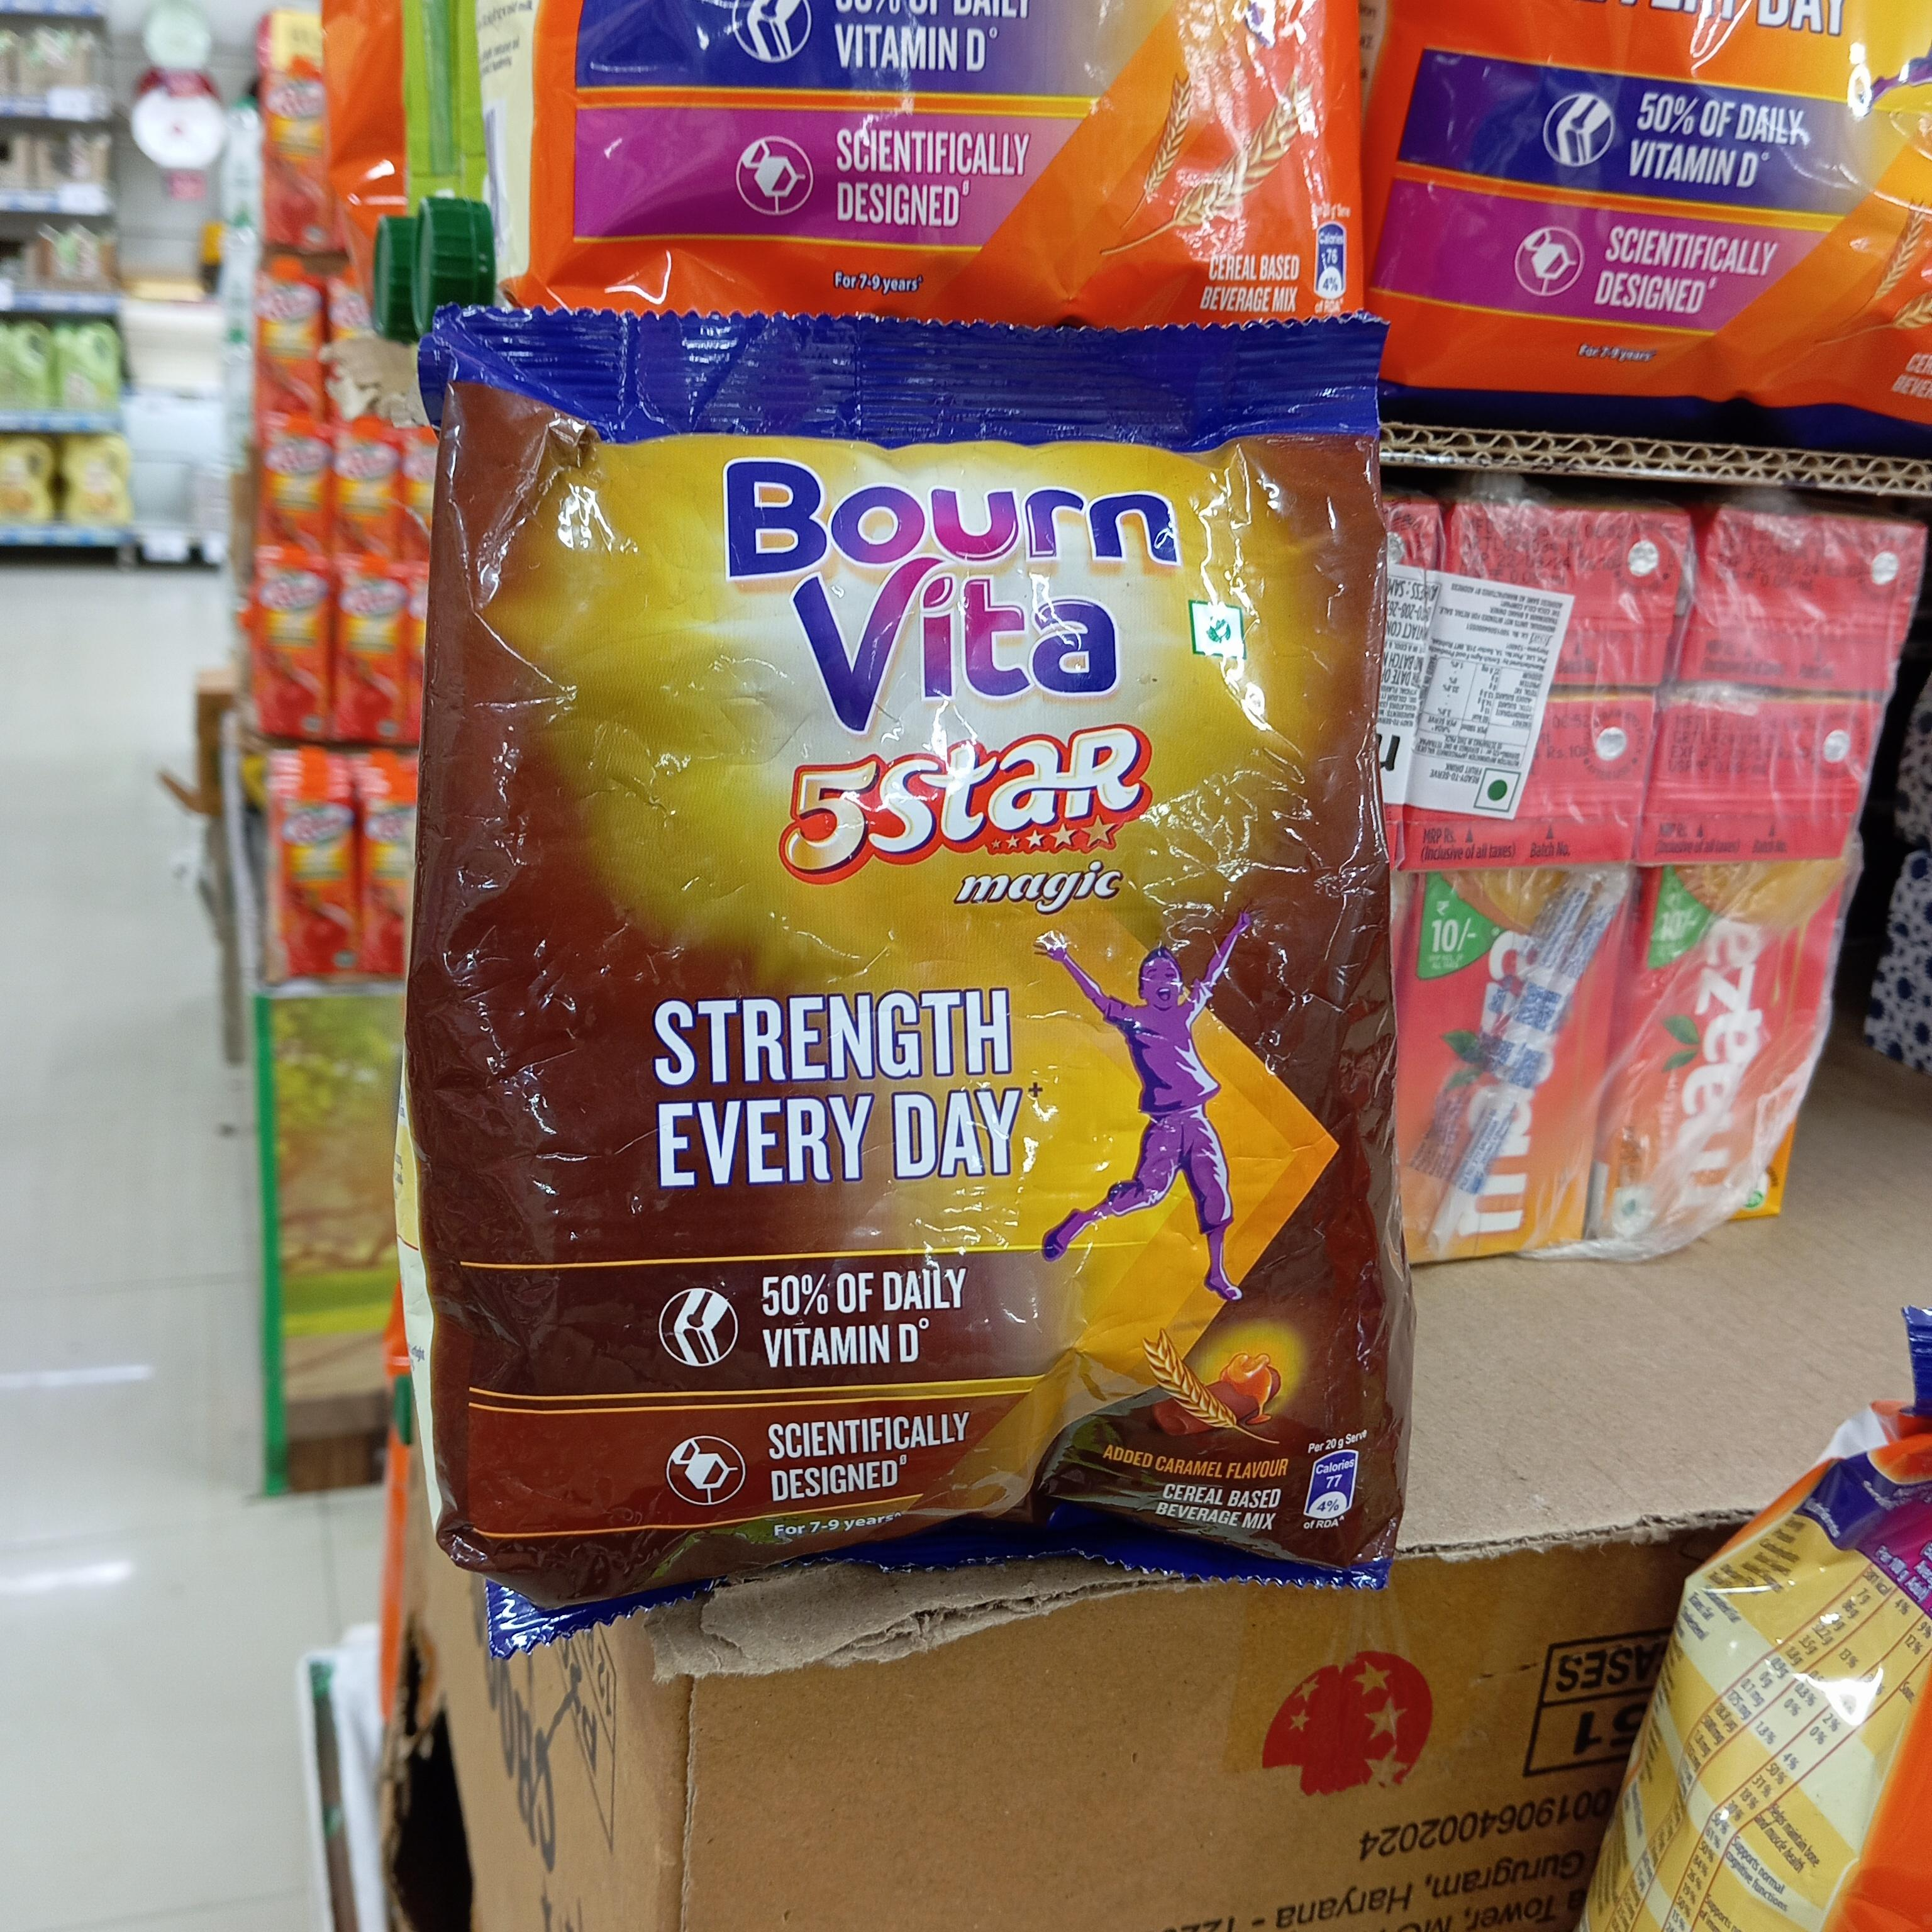BOURN_VITA_FIVE_STAR_MAGIC_500_G_POUCH: (409, 320, 1391, 1566)
